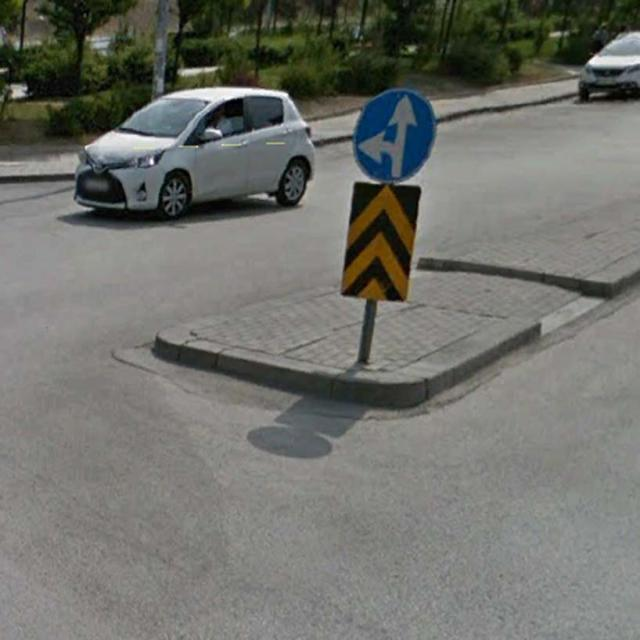ilerisol: (352, 87, 438, 183)
